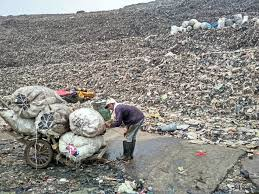garbage: (145, 17, 257, 194), (84, 9, 259, 98), (2, 20, 104, 132)
